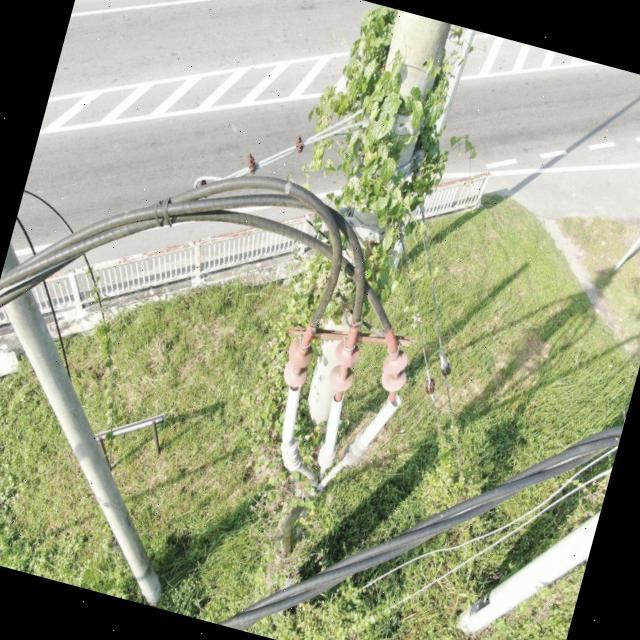critical vegetation: (191, 0, 510, 597)
